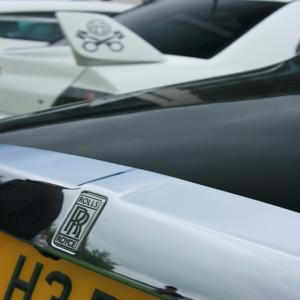Vehicle-registration-plate: (1, 232, 163, 300)
